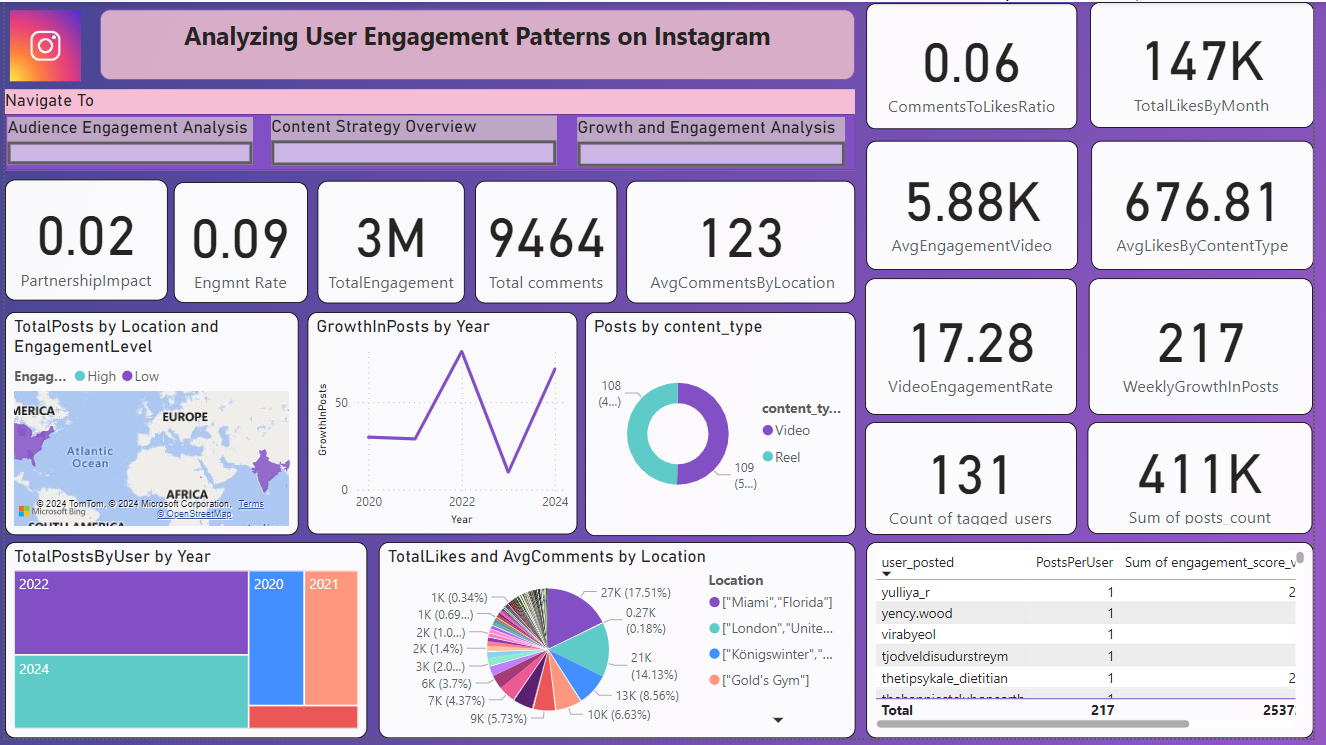

The page's visual inventory and layout, read from the dashboard file:
{"tool":"powerbi","page":{"name":"Page 1","canvas":[1280,720],"ordinal":0},"visuals":[{"type":"card","fields":{"Values":["ContentTypeTable.AvgLikesByContentType"]},"box":[1062.1,135.2,217.6,126.3],"z":0},{"type":"card","fields":{"Values":["Instagram - Posts.EngagementRate"]},"box":[165.1,176.1,130.8,118.6],"z":1000},{"type":"card","fields":{"Values":["CountNonNull(LocationTable.AvgCommentsByLocation)"]},"box":[607.7,174.9,223.8,119.8],"z":2000},{"type":"card","fields":{"Values":["Instagram - Posts.AvgEngagementVideo"]},"box":[842.7,135.2,206.9,126.3],"z":3000},{"type":"card","fields":{"Values":["Instagram - Posts.CommentsToLikesRatio"]},"box":[842.5,1.2,206.7,123.5],"z":4000},{"type":"card","fields":{"Values":["Instagram - Posts.VideoEngagementRate"]},"box":[841.8,270.4,206.9,133.4],"z":5000},{"type":"card","fields":{"Values":["Date.TotalLikesByMonth"]},"box":[1061.4,0,218.9,123.5],"z":6000},{"type":"card","fields":{"Values":["Instagram - Posts.PartnershipImpact"]},"box":[0,173.6,159,118.6],"z":7000},{"type":"card","fields":{"Values":["Instagram - Posts.TotalEngagement"]},"box":[305.7,174.9,144.3,119.8],"z":8000},{"type":"card","fields":{"Values":["Date.WeeklyGrowthInPosts"]},"box":[1060.3,270.4,219.4,133.4],"z":9000},{"type":"donutChart","fields":{"Y":["Instagram - Posts.PostsByContentType"],"Category":["Instagram - Posts.content_type"]},"box":[566.9,302.7,265.1,219.4],"z":10000},{"type":"tableEx","fields":{"Values":["Instagram - Posts.user_posted","Instagram - Posts.PostsPerUser","Sum(Instagram - Posts.engagement_score_view)","Instagram - Posts.EngagementRate"]},"box":[842.7,528.4,437.9,191.6],"z":11000},{"type":"lineChart","fields":{"Y":["Date.WeeklyGrowthInPosts"],"Category":["Date.date.Variation.Date Hierarchy.Year","Date.date.Variation.Date Hierarchy.Month","Date.date.Variation.Date Hierarchy.Day"]},"box":[295.5,303.6,264.2,217.6],"z":12000},{"type":"treemap","fields":{"Values":["UserTable.TotalPostsByUser"],"Group":["Date.Year"]},"box":[0,528.4,354.6,191.6],"z":13000},{"type":"card","fields":{"Values":["Count(Instagram - Posts.tagged_users)"]},"box":[841.8,411,206.9,110.1],"z":14000},{"type":"filledMap","fields":{"Category":["LocationTable.Location"],"Series":["LocationTable.EngagementLevel"],"X":["LocationTable.TotalPostsByLocation"]},"box":[0,303.6,287.5,218.5],"z":15000},{"type":"card","fields":{"Values":["Sum(Instagram - Posts.posts_count)"]},"box":[1059.4,411,220.3,109.3],"z":16000},{"type":"pieChart","fields":{"Category":["LocationTable.Location"],"Y":["LocationTable.TotalLikesByLocation","Sum(LocationTable.AvgCommentsByLocation)"]},"box":[365.4,528.4,466.6,191.6],"z":17000},{"type":"textbox","box":[92.9,7.3,738.6,68.5],"z":18000},{"type":"image","box":[0,0,79.5,85.6],"z":19000},{"type":"actionButton","box":[2.5,107.9,90.7,51.5],"z":20000},{"type":"shape","title":"Navigate To","box":[0,85.6,831.5,79.5],"z":21000},{"type":"actionButton","title":"Audience Engagement Analysis","box":[2.4,112.5,239.7,46.5],"z":22000},{"type":"actionButton","title":"Content Strategy Overview","box":[260.5,111.3,278.8,48.9],"z":23000},{"type":"actionButton","title":"Growth and Engagement Analysis","box":[560.1,112.5,261.7,48.9],"z":24000},{"type":"card","fields":{"Values":["Sum(Instagram - Posts.num_comments)"]},"box":[459.8,174.9,139.4,119.8],"z":25000}]}

Visuals, with their boxes in screenshot pixels (x1, y1, x2, y2), scaled from the page's 1280x720 canvas onto the 1326x745 screenshot:
card - ContentTypeTable.AvgLikesByContentType: box=[1100, 140, 1325, 271]
card - Instagram - Posts.EngagementRate: box=[171, 182, 307, 305]
card - CountNonNull(LocationTable.AvgCommentsByLocation): box=[630, 181, 861, 305]
card - Instagram - Posts.AvgEngagementVideo: box=[873, 140, 1087, 271]
card - Instagram - Posts.CommentsToLikesRatio: box=[873, 1, 1087, 129]
card - Instagram - Posts.VideoEngagementRate: box=[872, 280, 1086, 418]
card - Date.TotalLikesByMonth: box=[1100, 0, 1325, 128]
card - Instagram - Posts.PartnershipImpact: box=[0, 180, 165, 302]
card - Instagram - Posts.TotalEngagement: box=[317, 181, 466, 305]
card - Date.WeeklyGrowthInPosts: box=[1098, 280, 1325, 418]
donutChart - Instagram - Posts.PostsByContentType x Instagram - Posts.content_type: box=[587, 313, 862, 540]
tableEx - Instagram - Posts.user_posted x Instagram - Posts.PostsPerUser: box=[873, 547, 1325, 744]
lineChart - Date.WeeklyGrowthInPosts x Date.date.Variation.Date Hierarchy.Year: box=[306, 314, 580, 539]
treemap - UserTable.TotalPostsByUser x Date.Year: box=[0, 547, 367, 744]
card - Count(Instagram - Posts.tagged_users): box=[872, 425, 1086, 539]
filledMap - LocationTable.Location x LocationTable.EngagementLevel: box=[0, 314, 298, 540]
card - Sum(Instagram - Posts.posts_count): box=[1097, 425, 1325, 538]
pieChart - LocationTable.Location x LocationTable.TotalLikesByLocation: box=[379, 547, 862, 744]
textbox: box=[96, 8, 861, 78]
image: box=[0, 0, 82, 89]
actionButton: box=[3, 112, 97, 165]
"Navigate To" shape: box=[0, 89, 861, 171]
"Audience Engagement Analysis" actionButton: box=[2, 116, 251, 165]
"Content Strategy Overview" actionButton: box=[270, 115, 559, 166]
"Growth and Engagement Analysis" actionButton: box=[580, 116, 851, 167]
card - Sum(Instagram - Posts.num_comments): box=[476, 181, 621, 305]
